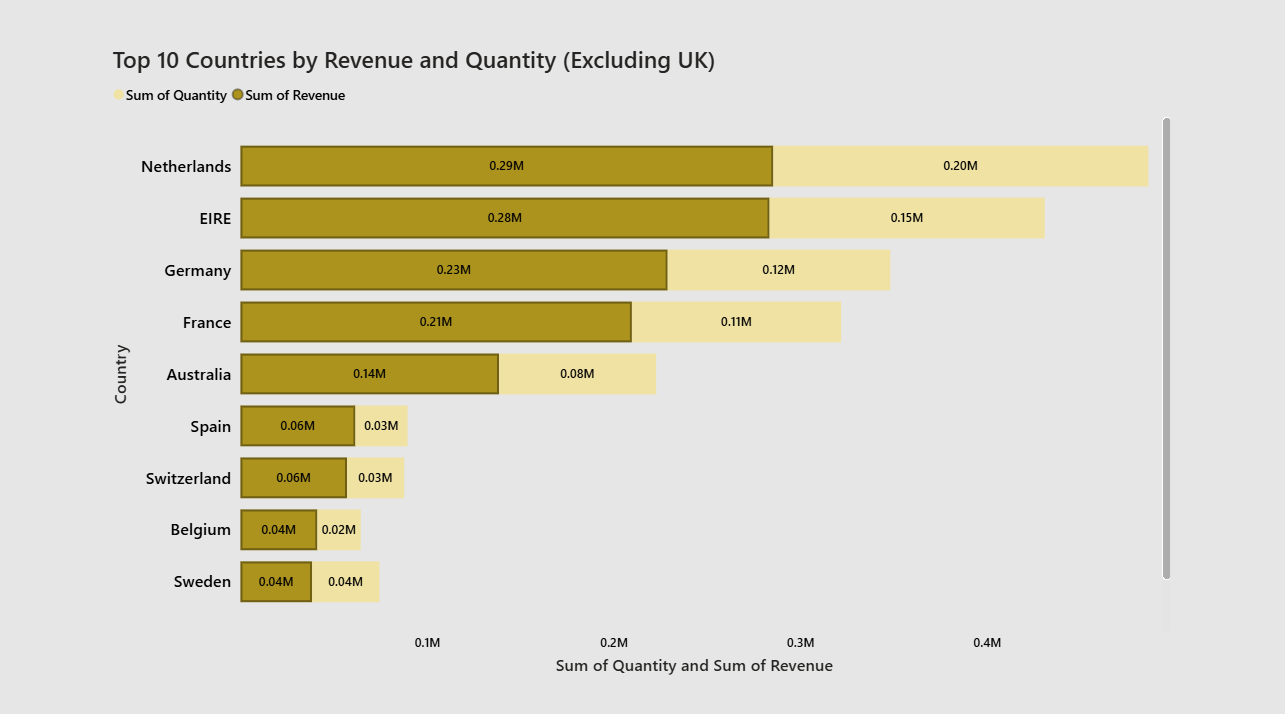

Layout of this report page (visuals, bound fields, positions):
{"tool":"powerbi","page":{"name":"Q2 - Top 10 Countries by Revenue","canvas":[1280,720],"ordinal":1},"visuals":[{"type":"barChart","title":"Top 10 Countries by Revenue and Quantity (Excluding UK)","fields":{"Category":["Online Retail.Country"],"Y":["Sum(Online Retail.Quantity)","Sum(Online Retail.Revenue)"]},"box":[120.8,49.4,1038.8,620.2],"z":0}]}

Visuals, with their boxes in screenshot pixels (x1, y1, x2, y2), scaled from the page's 1280x720 canvas onto the 1285x714 screenshot:
"Top 10 Countries by Revenue and Quantity (Excluding UK)" barChart: crop(121, 49, 1164, 664)
